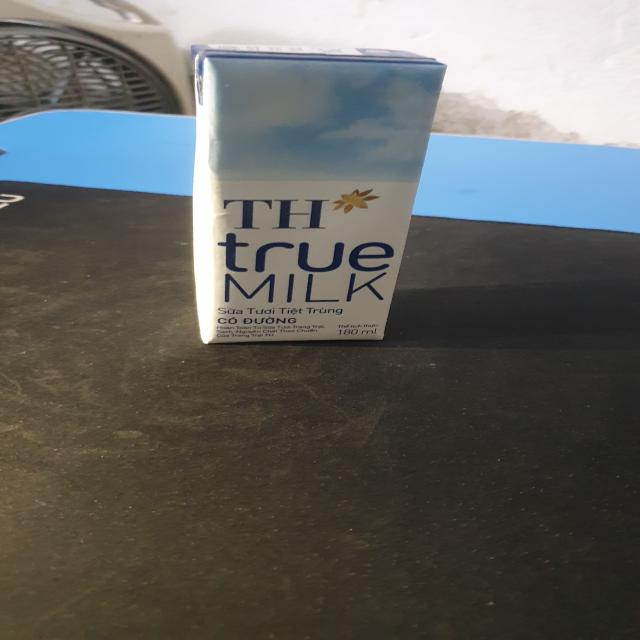TH: (190, 44, 444, 345)
